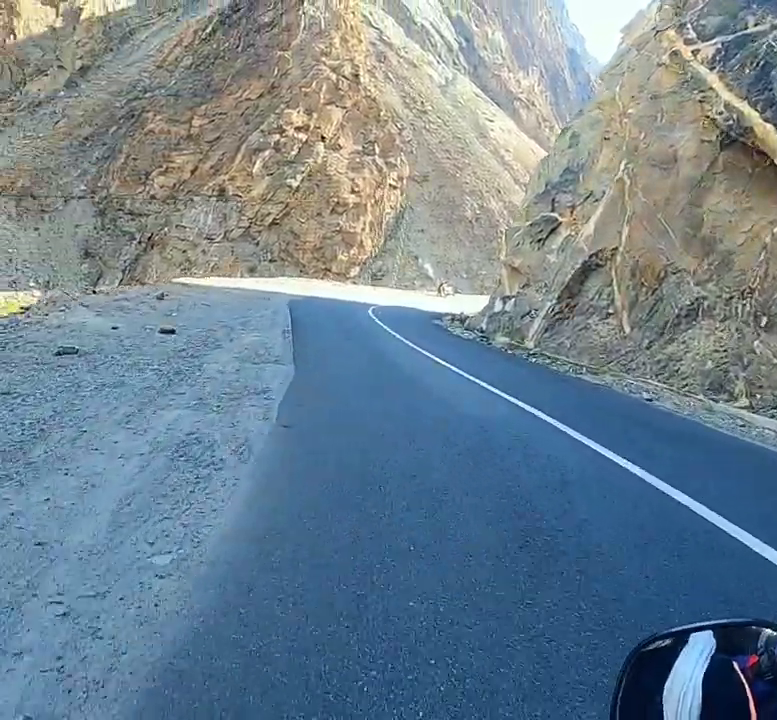stright: (264, 283, 590, 510)
